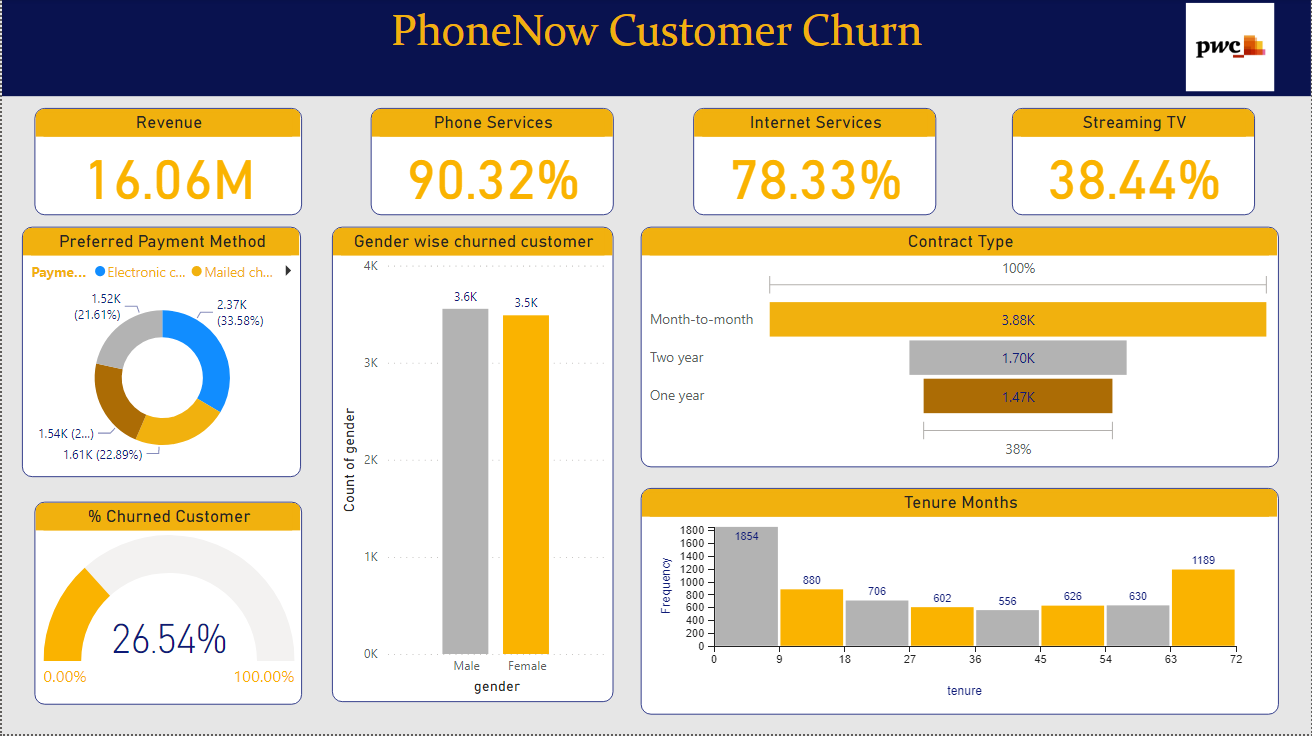

This screenshot's page, from the dashboard's own definition file:
{"tool":"powerbi","page":{"name":"Page 1","canvas":[1280,720],"ordinal":0},"visuals":[{"type":"textbox","box":[0,0,1280,96.2],"z":0},{"type":"image","box":[1121.5,0,159,96],"z":1000},{"type":"gauge","title":"% Churned Customer","fields":{"Y":["01 Churn-Dataset.% Churn"]},"box":[31.2,492.5,261.2,198.8],"z":2000},{"type":"card","title":"Revenue","fields":{"Values":["Sum(01 Churn-Dataset.TotalCharges)"]},"box":[31.2,107.5,261.2,105],"z":3000},{"type":"card","title":"Streaming TV","fields":{"Values":["01 Churn-Dataset.Streaming TV"]},"box":[987.5,107.5,237.5,105],"z":4000},{"type":"card","title":"Phone Services","fields":{"Values":["01 Churn-Dataset.Phone Service"]},"box":[360,107.5,237.5,105],"z":5000},{"type":"card","title":"Internet Services","fields":{"Values":["01 Churn-Dataset.Internet Service"]},"box":[676.2,107.5,237.5,105],"z":6000},{"type":"columnChart","title":"Gender wise churned customer","fields":{"Category":["01 Churn-Dataset.gender"],"Y":["CountNonNull(01 Churn-Dataset.gender)"]},"box":[322.5,223.8,275,465],"z":7000},{"type":"Histogram1445664487616","title":"Tenure Months","fields":{"Values":["01 Churn-Dataset.tenure"],"Frequency":["CountNonNull(01 Churn-Dataset.tenure)"]},"box":[625,478.8,623.8,221.2],"z":8000},{"type":"donutChart","title":"Preferred Payment Method ","fields":{"Y":["CountNonNull(01 Churn-Dataset.PaymentMethod)"],"Category":["01 Churn-Dataset.PaymentMethod"]},"box":[20,223.8,272.5,245],"z":9000},{"type":"funnel","title":"Contract Type","fields":{"Category":["01 Churn-Dataset.Contract"],"Y":["CountNonNull(01 Churn-Dataset.Contract)"]},"box":[625,223.8,623.8,235],"z":10000}]}

Visuals, with their boxes in screenshot pixels (x1, y1, x2, y2), scaled from the page's 1280x720 canvas onto the 1312x736 screenshot:
textbox: [x1=0, y1=0, x2=1311, y2=98]
image: [x1=1150, y1=0, x2=1311, y2=98]
"% Churned Customer" gauge: [x1=32, y1=503, x2=300, y2=707]
"Revenue" card: [x1=32, y1=110, x2=300, y2=217]
"Streaming TV" card: [x1=1012, y1=110, x2=1256, y2=217]
"Phone Services" card: [x1=369, y1=110, x2=612, y2=217]
"Internet Services" card: [x1=693, y1=110, x2=937, y2=217]
"Gender wise churned customer" columnChart: [x1=331, y1=229, x2=612, y2=704]
"Tenure Months" Histogram1445664487616: [x1=641, y1=489, x2=1280, y2=716]
"Preferred Payment Method " donutChart: [x1=20, y1=229, x2=300, y2=479]
"Contract Type" funnel: [x1=641, y1=229, x2=1280, y2=469]
